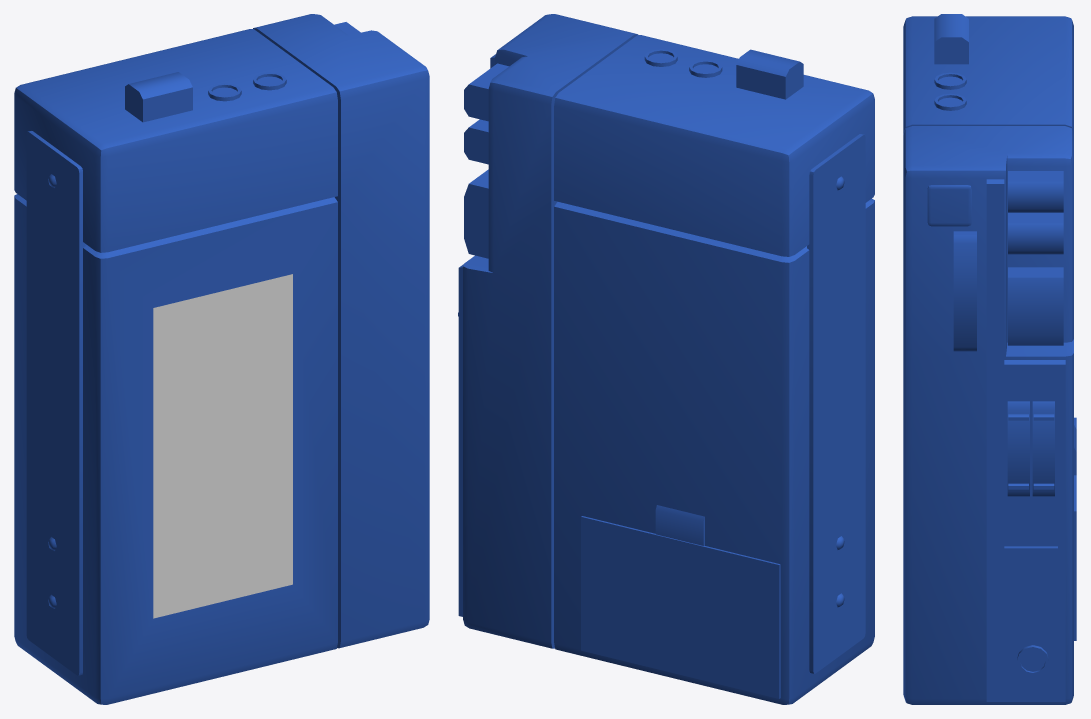
Rendered from RetroElectronic_Cassette_player.fbx.
The picture shows the model from 3 angles, left to right: view 1: azimuth 30°, elevation 25°; view 2: azimuth 150°, elevation 25°; view 3: azimuth 270°, elevation 25°; orthographic projection. The views are drawn at different scales.
Parts seen in each view (by area): view 1: cassette_player, glass; view 2: cassette_player; view 3: cassette_player.
Part boxes in pixels (<box>): cassette_player: <box>14,14,429,704</box>; glass: <box>153,274,292,618</box>; cassette_player: <box>458,14,874,704</box>; cassette_player: <box>903,14,1076,704</box>.
Bounding box in the file's own units: 9.72 × 4.29 × 15.5.
